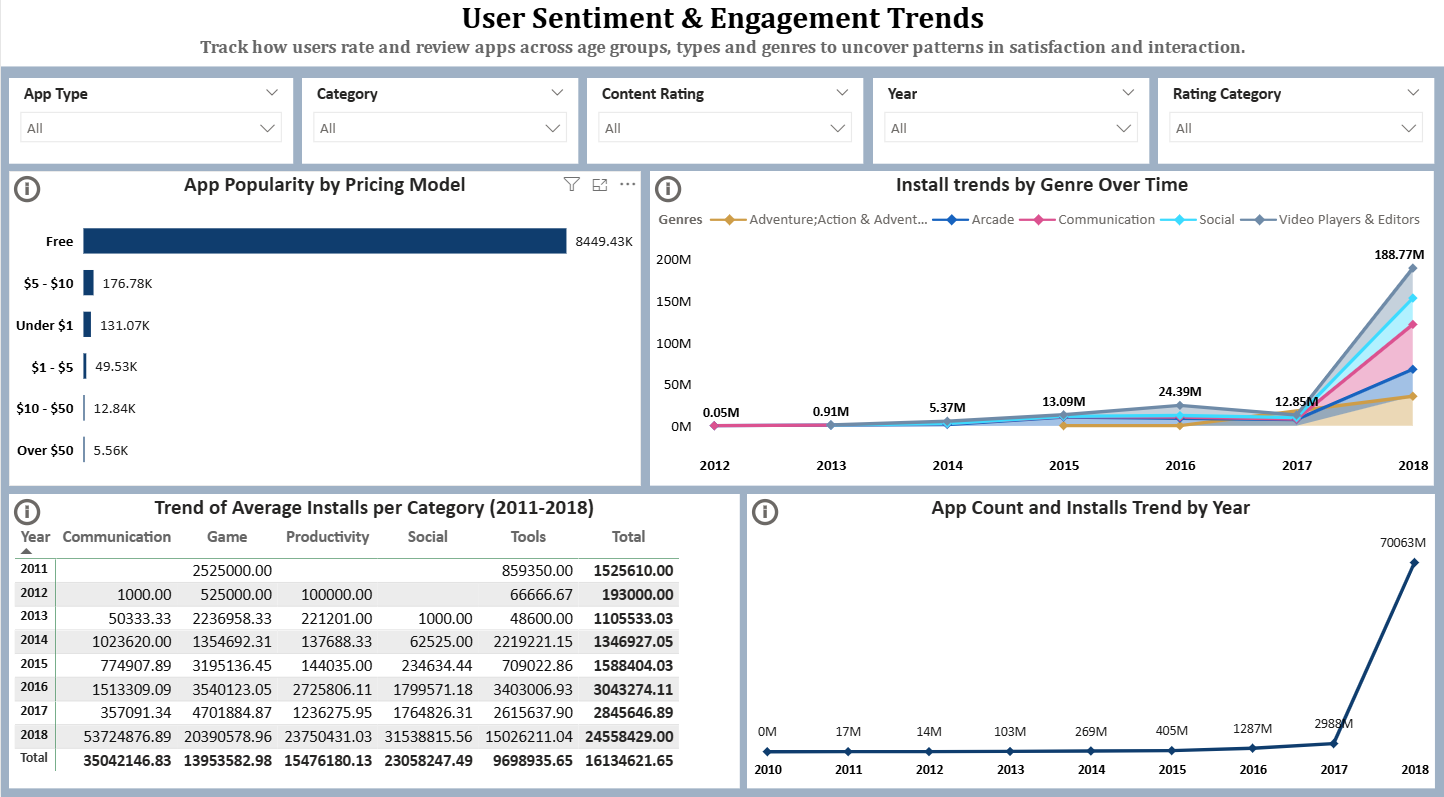

The dashboard page shown, as its layout file describes it:
{"tool":"powerbi","page":{"name":"User Sentiment & Engagement Trends","canvas":[1280,720],"ordinal":3},"visuals":[{"type":"pivotTable","title":"Trend of Average Installs per Category (2011-2018)","fields":{"Rows":["googleplaystore_cleaned.Last_Updated.Variation.Date Hierarchy.Year"],"Values":["Avg(googleplaystore_cleaned.Installs)"],"Columns":["googleplaystore_cleaned.Category"]},"box":[6.8,449.4,647.8,260.7],"z":0},{"type":"lineChart","title":"App Count and Installs Trend by Year","fields":{"Category":["googleplaystore_cleaned.Last_Updated.Variation.Date Hierarchy.Year"],"Y":["Sum(googleplaystore_cleaned.Installs)"]},"box":[661.4,449.4,609.8,260.7],"z":1000},{"type":"slicer","fields":{"Values":["googleplaystore_cleaned.Type"]},"box":[6.8,80.7,251.9,75.9],"z":2000},{"type":"slicer","fields":{"Values":["googleplaystore_cleaned.Category"]},"box":[266.7,80.7,245.1,75.9],"z":3000},{"type":"slicer","fields":{"Values":["googleplaystore_cleaned.Content_Rating"]},"box":[519.9,80.7,245.1,75.9],"z":4000},{"type":"slicer","fields":{"Values":["googleplaystore_cleaned.Last_Updated.Variation.Date Hierarchy.Year"]},"box":[773,80.7,245.1,75.9],"z":5000},{"type":"slicer","fields":{"Values":["googleplaystore_cleaned.Rating Category"]},"box":[1026.1,80.7,245.1,75.9],"z":6000},{"type":"barChart","title":"App Popularity by Pricing Model","fields":{"Category":["googleplaystore_cleaned.Price_Bucket"],"Y":["Avg(googleplaystore_cleaned.Installs)"]},"box":[6.8,163.4,560.2,279.1],"z":7000},{"type":"stackedAreaChart","title":"Install trends by Genre Over Time","fields":{"Category":["googleplaystore_cleaned.Last_Updated.Variation.Date Hierarchy.Year"],"Y":["Avg(googleplaystore_cleaned.Installs)"],"Series":["googleplaystore_cleaned.Genres"]},"box":[575.8,163.4,695.4,279.1],"z":8000},{"type":"shape","title":"App Availability Overview","box":[0,0,1280,50.6],"z":9000},{"type":"shape","box":[0,43.8,1280,27.2],"z":10000},{"type":"actionButton","box":[6.8,163.4,34,32.1],"z":11000},{"type":"actionButton","box":[575.8,163.4,34,32.1],"z":12000},{"type":"actionButton","box":[6.8,449.4,33.1,32.1],"z":13000},{"type":"actionButton","box":[661.4,449.4,33.1,32.1],"z":14000}]}

Visuals, with their boxes in screenshot pixels (x1, y1, x2, y2), scaled from the page's 1280x720 canvas onto the 1444x797 screenshot:
"Trend of Average Installs per Category (2011-2018)" pivotTable: region(8, 497, 738, 786)
"App Count and Installs Trend by Year" lineChart: region(746, 497, 1434, 786)
slicer - googleplaystore_cleaned.Type: region(8, 89, 292, 173)
slicer - googleplaystore_cleaned.Category: region(301, 89, 577, 173)
slicer - googleplaystore_cleaned.Content_Rating: region(587, 89, 863, 173)
slicer - googleplaystore_cleaned.Last_Updated.Variation.Date Hierarchy.Year: region(872, 89, 1149, 173)
slicer - googleplaystore_cleaned.Rating Category: region(1158, 89, 1434, 173)
"App Popularity by Pricing Model" barChart: region(8, 181, 640, 490)
"Install trends by Genre Over Time" stackedAreaChart: region(650, 181, 1434, 490)
"App Availability Overview" shape: region(0, 0, 1443, 56)
shape: region(0, 48, 1443, 79)
actionButton: region(8, 181, 46, 216)
actionButton: region(650, 181, 688, 216)
actionButton: region(8, 497, 45, 533)
actionButton: region(746, 497, 783, 533)
